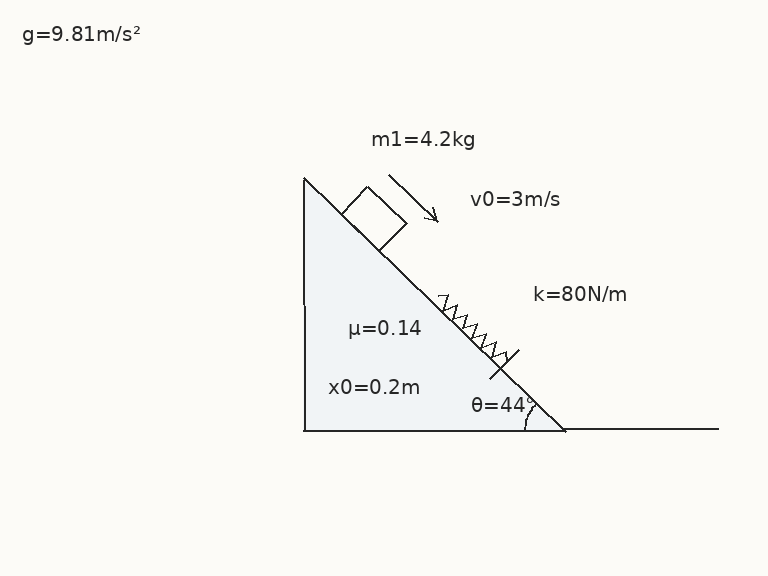block: (338, 184, 408, 253)
ramp: (302, 177, 567, 433)
spring: (436, 294, 508, 363)
